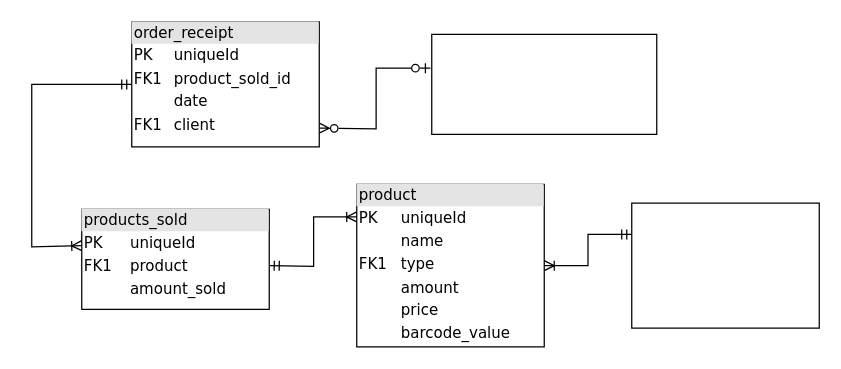
Some shapes in this 841 by 369 pixel diagram are drawn without their labels. The shapes that lost their labels are listed below. From the top down, each one's centre as x and y in pixels, then its label:
point 543,83: client PK uniqueId name phone_number
point 724,265: type PK uniqueId name volume_in_liters description
